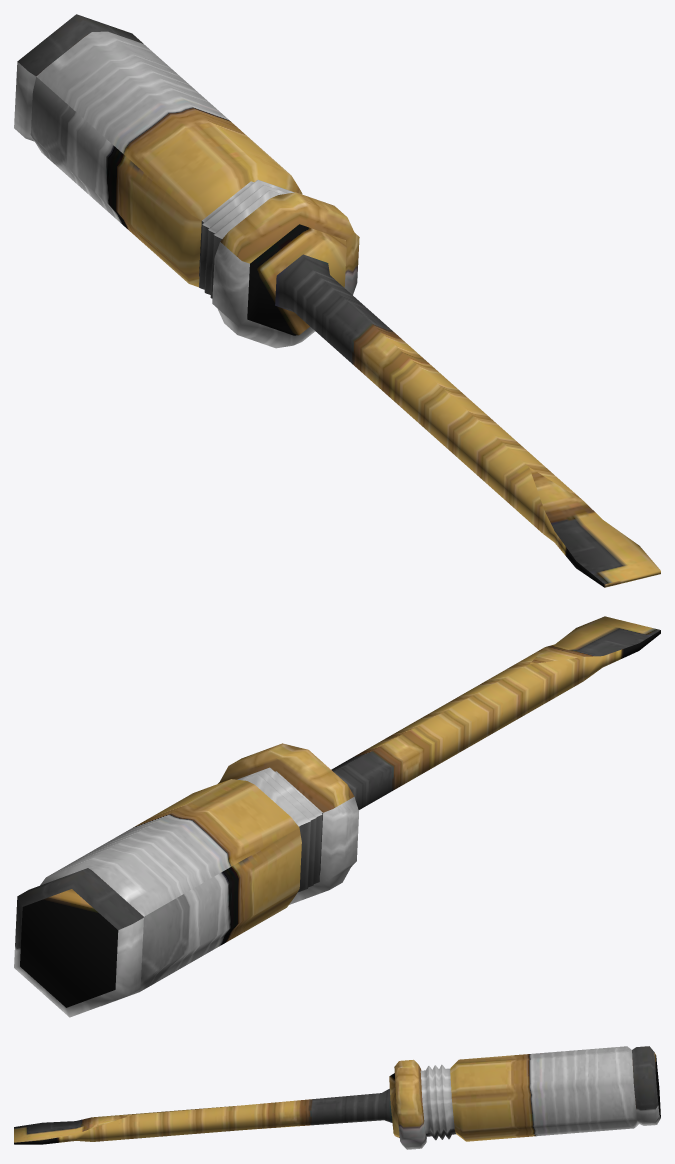
The model's file is Screwdriver.glb.
3 views of the same model, one above another, from view 1: azimuth 30°, elevation 25°; view 2: azimuth 150°, elevation 25°; view 3: azimuth 270°, elevation 25° (orthographic). The views are drawn at different scales.
Visible parts, largest first — view 1: Screwdriver; view 2: Screwdriver; view 3: Screwdriver.
Part boxes in pixels (<box>): Screwdriver: <box>14,14,660,587</box>; Screwdriver: <box>14,616,660,1017</box>; Screwdriver: <box>14,1046,660,1149</box>.
Bounding box in the file's own units: 0.4626 × 0.5879 × 3.44.
Materials: 1 (1 with a texture image).
